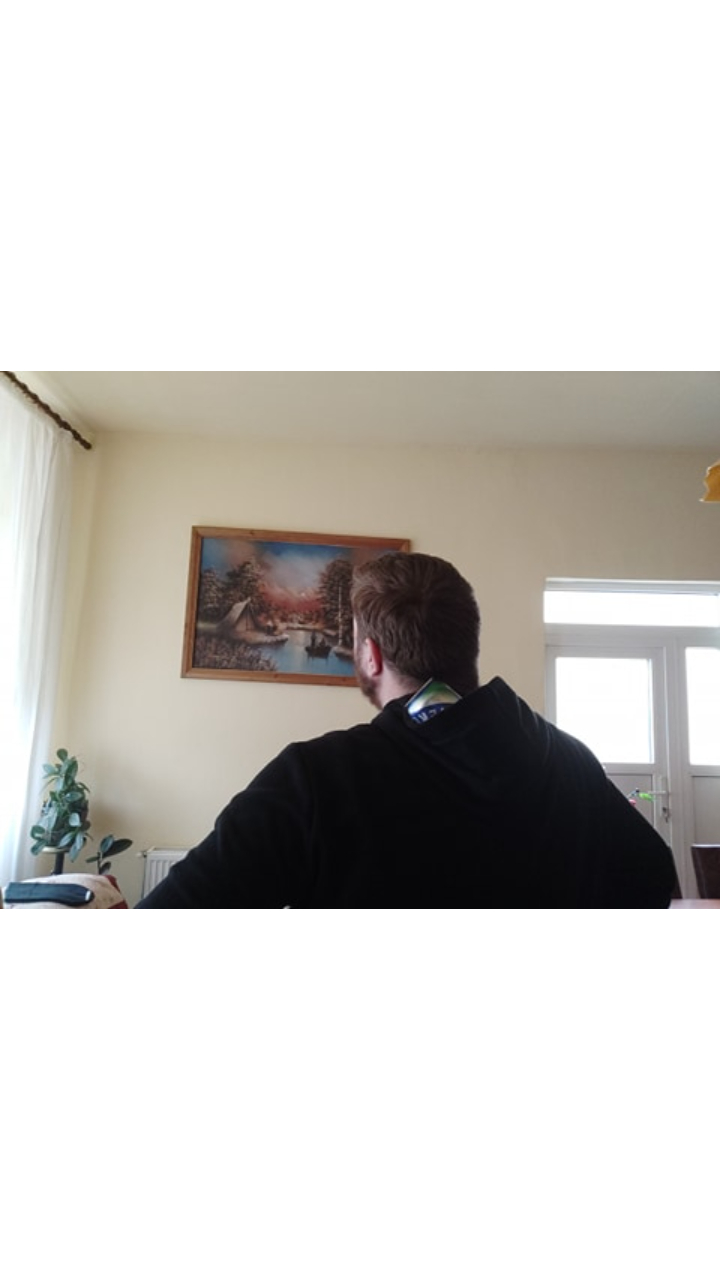Can: (401, 676, 456, 720)
